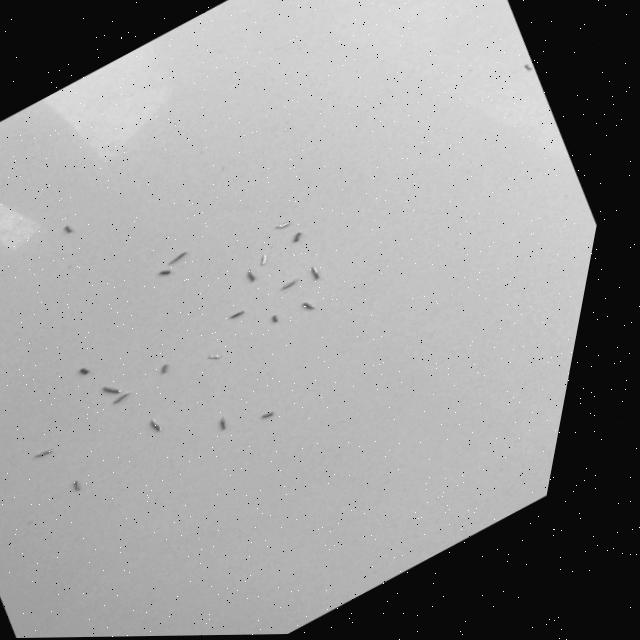Wereng: (24, 437, 69, 467), (157, 244, 198, 273), (200, 411, 237, 442), (98, 388, 138, 416), (139, 410, 173, 442), (293, 291, 327, 321), (51, 215, 85, 243), (94, 376, 128, 404), (197, 342, 230, 369), (248, 402, 282, 428), (222, 304, 255, 327), (234, 265, 264, 290), (274, 274, 306, 297), (147, 263, 177, 286), (300, 261, 328, 285), (264, 308, 289, 332), (513, 54, 539, 77), (63, 475, 88, 498), (268, 216, 296, 236), (71, 360, 97, 381), (284, 228, 310, 248), (153, 358, 177, 379), (252, 252, 275, 273)
